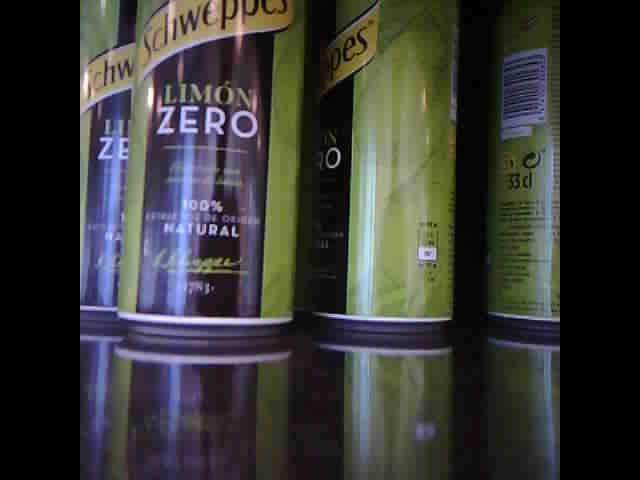schweppes: (117, 1, 307, 337), (314, 1, 461, 331), (479, 6, 560, 331), (79, 3, 135, 321)
